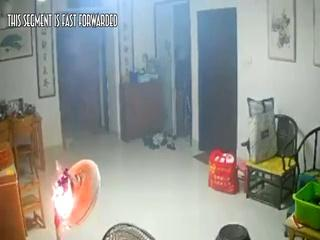Fire: (49, 142, 101, 234)
